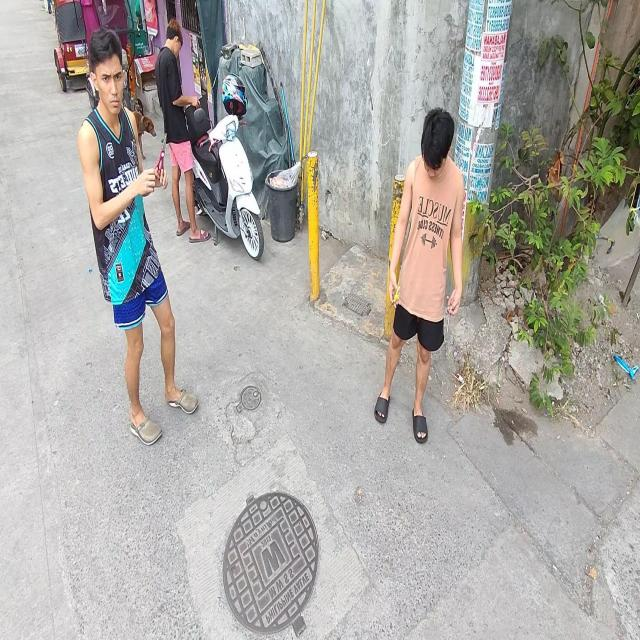scissor: (153, 134, 167, 180), (388, 286, 400, 314)
